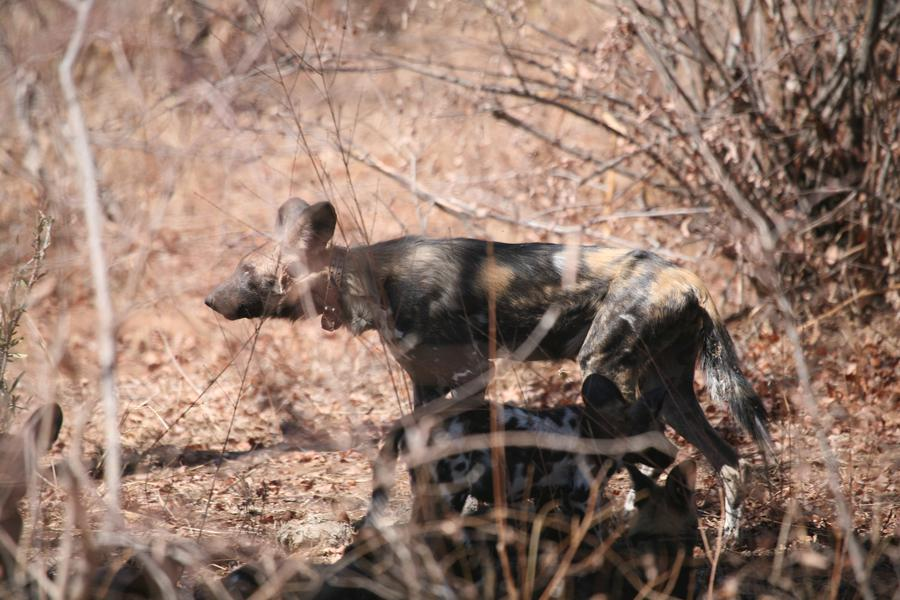wilddog: (203, 188, 710, 425)
